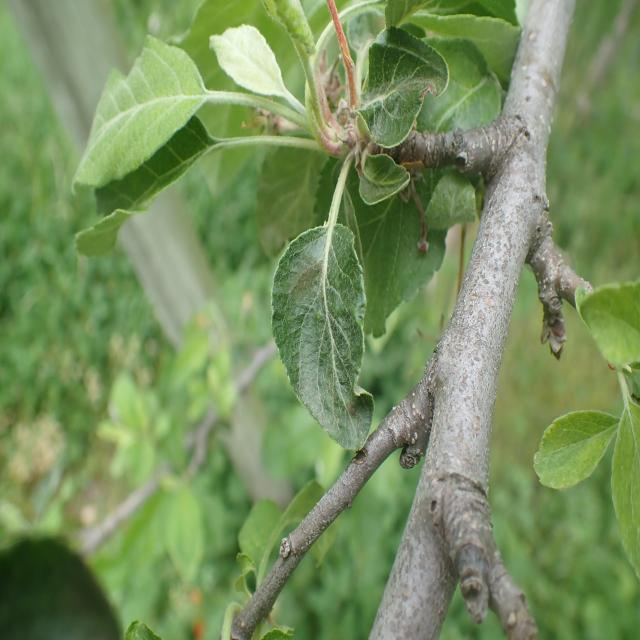scab: (283, 238, 366, 440)
